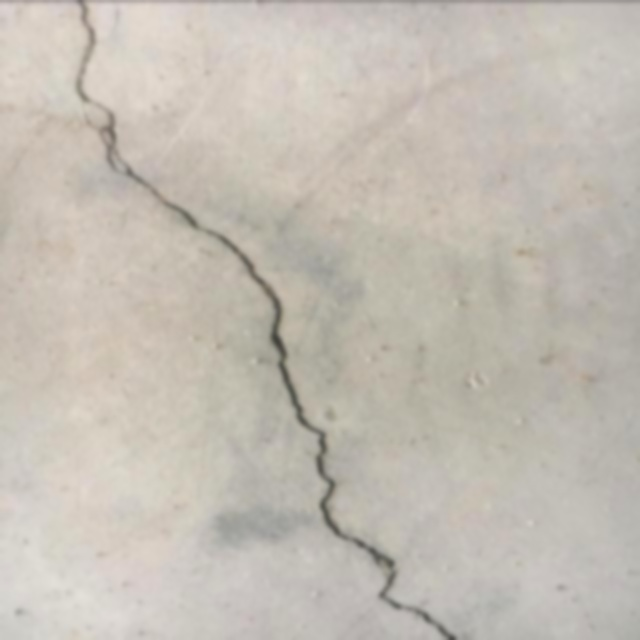SurfaceCrack: (1, 0, 487, 639)
